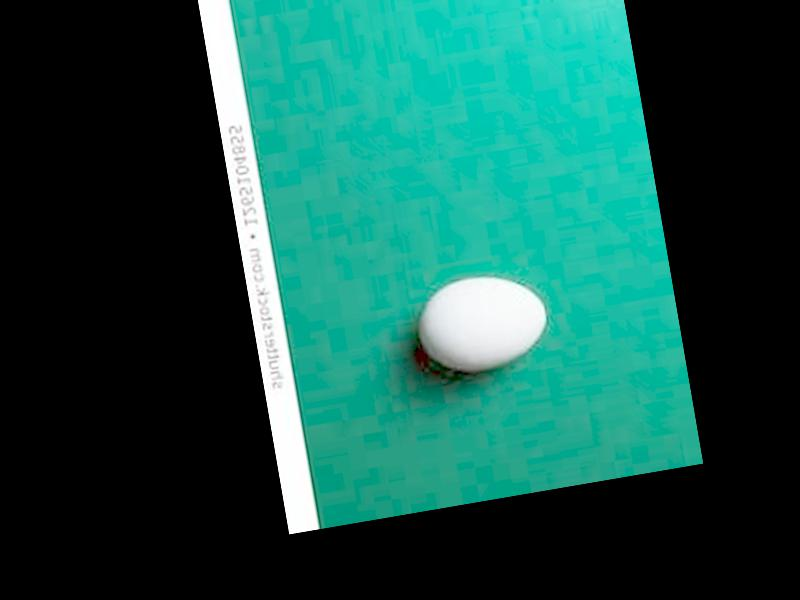Eggs: (411, 263, 551, 375)
